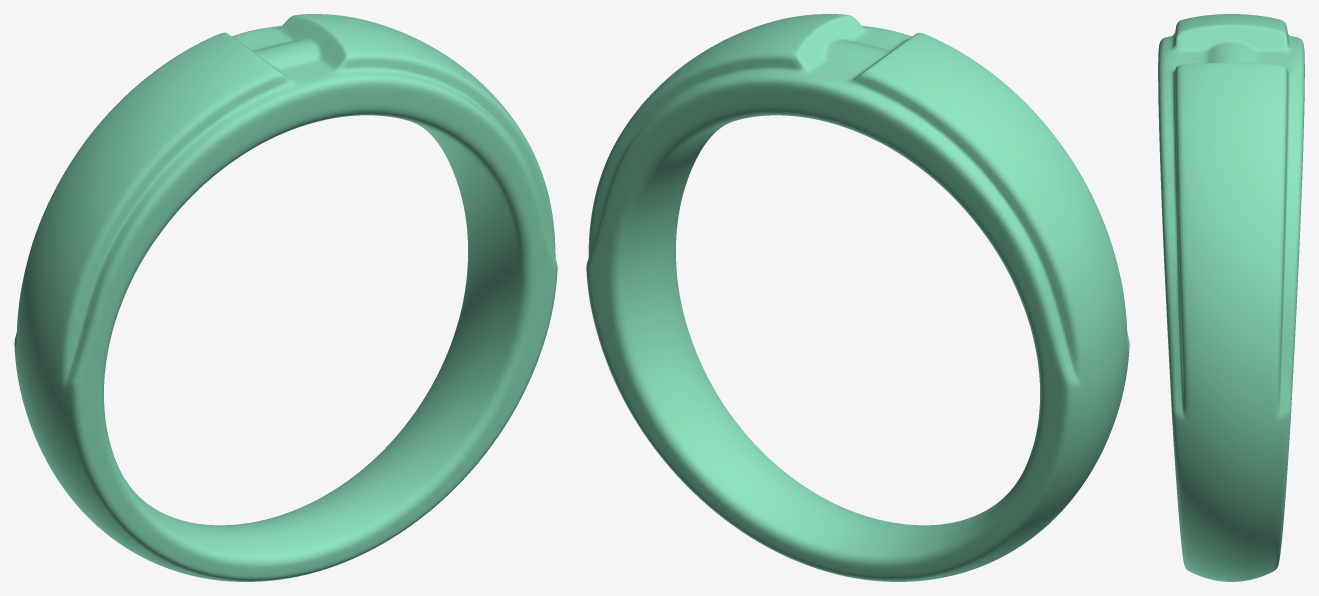
The picture shows the model from 3 angles, left to right: view 1: azimuth 30°, elevation 25°; view 2: azimuth 150°, elevation 25°; view 3: azimuth 270°, elevation 25°; orthographic projection. The views are drawn at different scales.
Visible parts, largest first — view 1: Metal02; view 2: Metal02; view 3: Metal02.
Boxes of the visible parts, left/top/right/bottom form: Metal02: left=14, top=14, right=557, bottom=581; Metal02: left=586, top=14, right=1129, bottom=581; Metal02: left=1158, top=14, right=1304, bottom=581.
Bounding box in the file's own units: 21.7 × 21.74 × 5.65.
